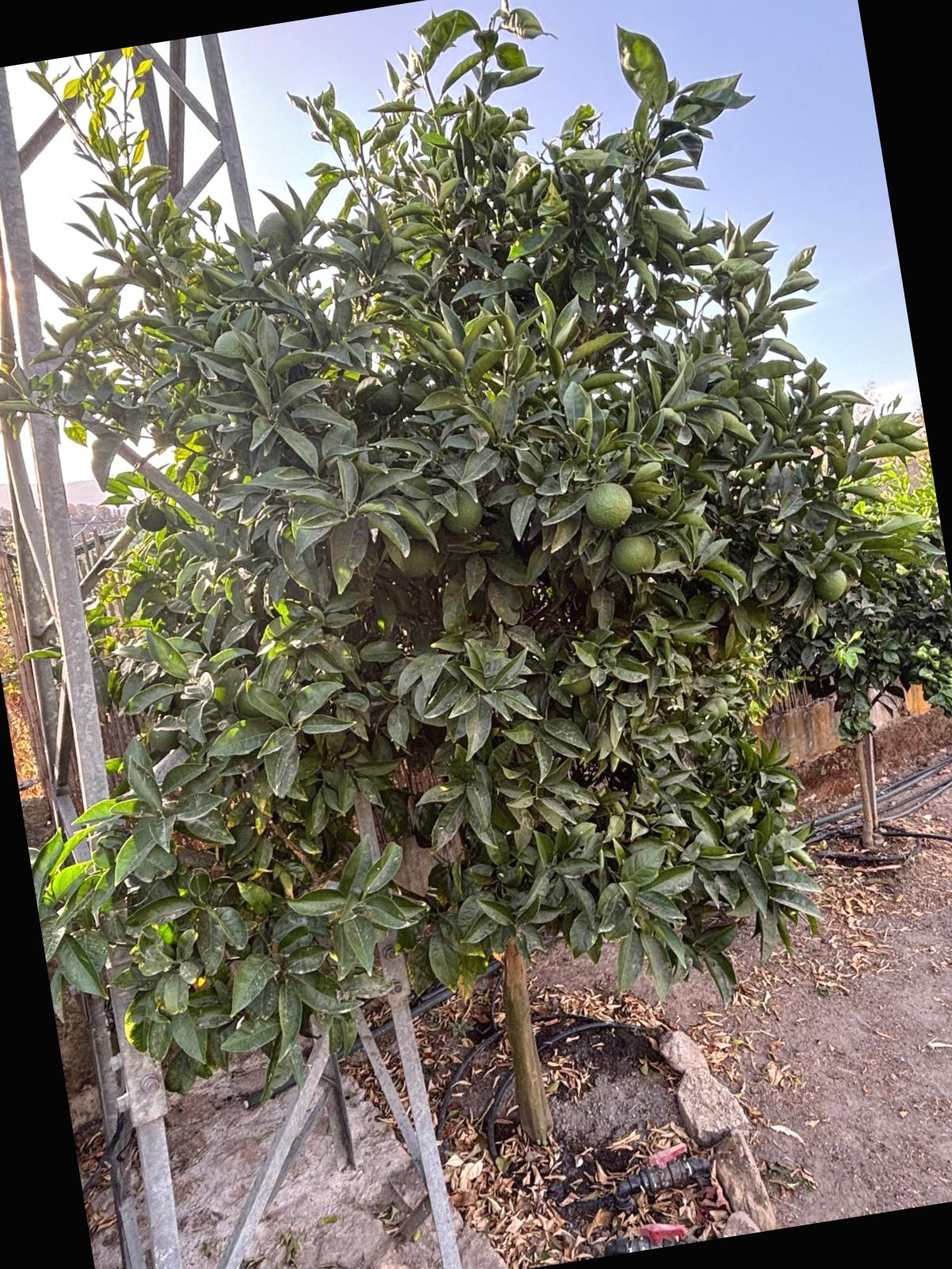naranjo: (218, 116, 952, 1176)
